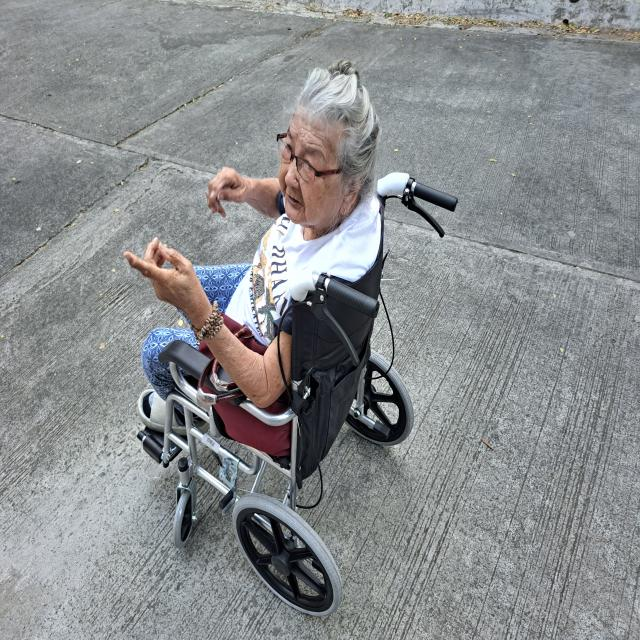wheelchairs: (129, 172, 462, 625)
